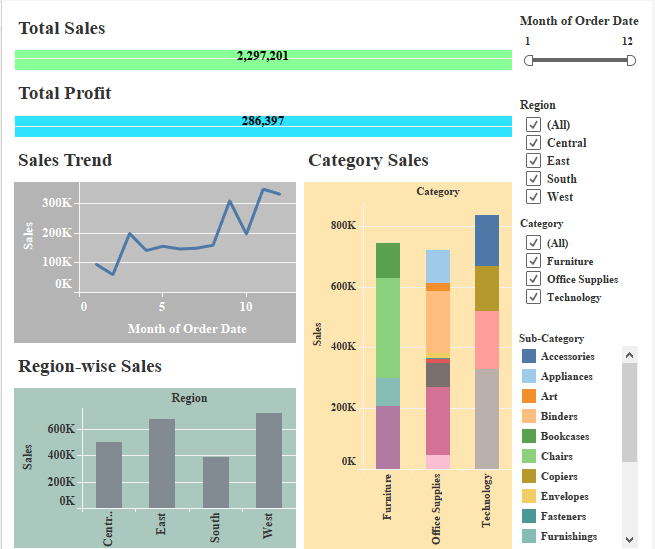

This screenshot's page, from the dashboard's own definition file:
{"tool":"tableau","page":{"name":"Dashboard 1","canvas":[650,860],"ordinal":0},"visuals":[{"type":"worksheet","title":"Total Sales","mark":"Text","rows":["Sales"],"box":[8,12.3,506,99.8]},{"type":"filter","title":"Sales Trend","param":"[federated.0mfh6dg1qn77941bvb43604tdhe1].[mn:Order Date:qk]","box":[514,12.3,128,130.5]},{"type":"worksheet","title":"Total Profit","mark":"Text","rows":["Profit"],"box":[8,112.1,506,102.9]},{"type":"filter","title":"Region-wise Sales","param":"[federated.0mfh6dg1qn77941bvb43604tdhe1].[none:Region:nk]","box":[514,142.8,128,182.8]},{"type":"worksheet","title":"Sales Trend","mark":"Line","rows":["Sales"],"cols":["Order Date"],"box":[8,215,289.6,316.4]},{"type":"worksheet","title":"Category Sales","mark":"Bar","rows":["Sales"],"cols":["Category"],"box":[297.6,215,216.4,632.7]},{"type":"filter","title":"Category Sales","param":"[federated.0mfh6dg1qn77941bvb43604tdhe1].[none:Category:nk]","box":[514,325.6,128,153.6]},{"type":"legend","title":"Category Sales","param":"[federated.0mfh6dg1qn77941bvb43604tdhe1].[none:Sub-Category:nk]","box":[517,508.3,121,331.7]},{"type":"worksheet","title":"Region-wise Sales","mark":"Bar","rows":["Sales"],"cols":["Region"],"box":[8,531.3,289.6,316.4]}]}

Visuals, with their boxes on the page's 650x860 design canvas (x1, y1, x2, y2). These are canvas units, not pixel positions in the 655x549 screenshot, which may show the page scaled, cropped or inside an application window:
"Total Sales" worksheet (Text marks): BBox(8, 12, 514, 112)
"Sales Trend" filter: BBox(514, 12, 642, 143)
"Total Profit" worksheet (Text marks): BBox(8, 112, 514, 215)
"Region-wise Sales" filter: BBox(514, 143, 642, 326)
"Sales Trend" worksheet (Line marks): BBox(8, 215, 298, 531)
"Category Sales" worksheet (Bar marks): BBox(298, 215, 514, 848)
"Category Sales" filter: BBox(514, 326, 642, 479)
"Category Sales" legend: BBox(517, 508, 638, 840)
"Region-wise Sales" worksheet (Bar marks): BBox(8, 531, 298, 848)
